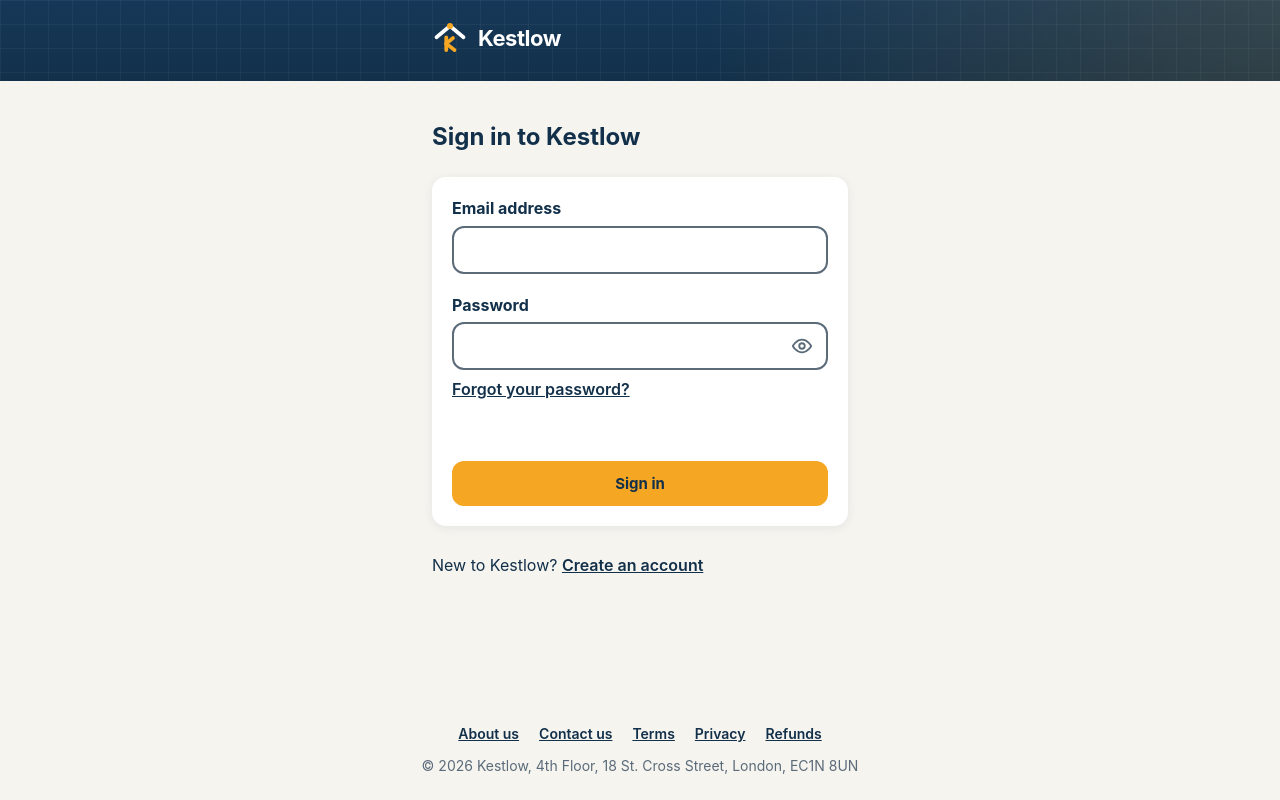
Test: AuthScreen › shows the API's message when sign-in fails
This screenshot has width=1280, height=800.
Type "dave@example.com" into the field labelled "Email address" at (640, 250), box [452,226,828,274]
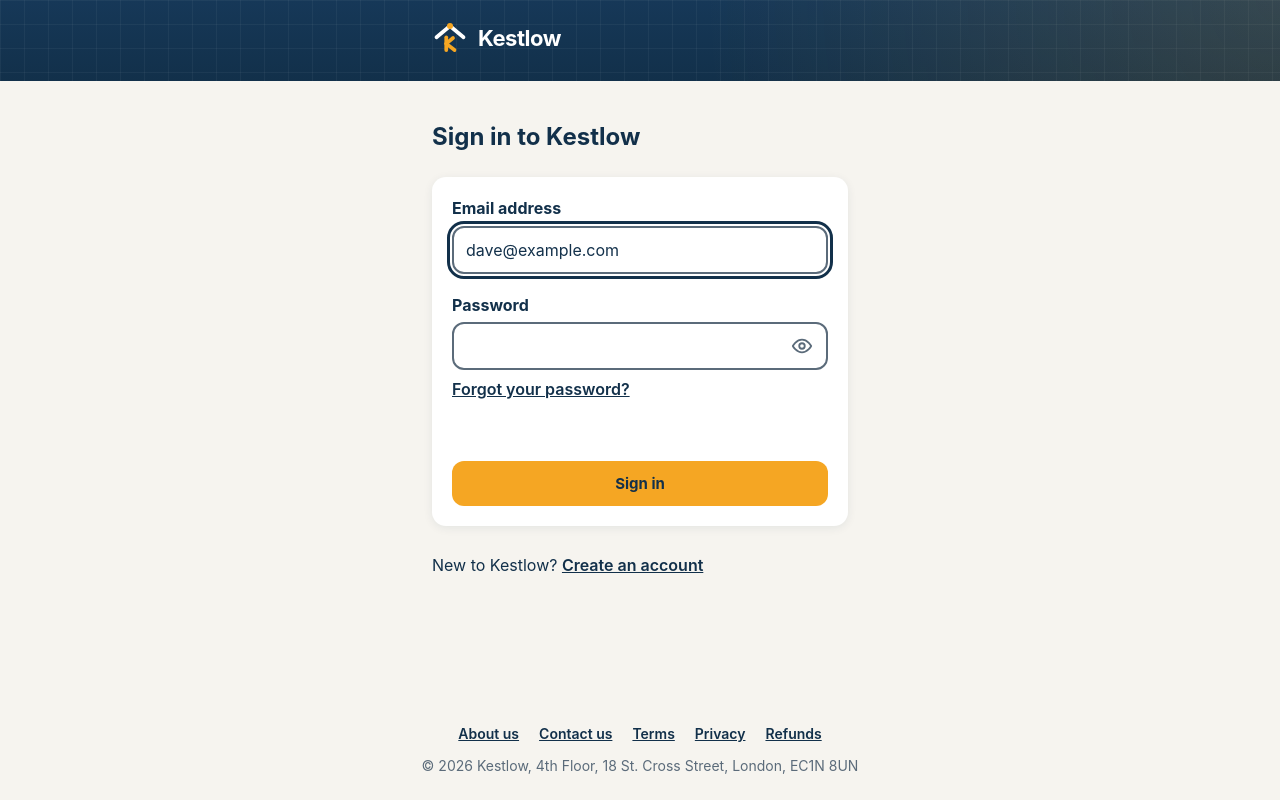
Type "wrong" into the password field labelled "Password" at (640, 346), box [452,322,828,370]
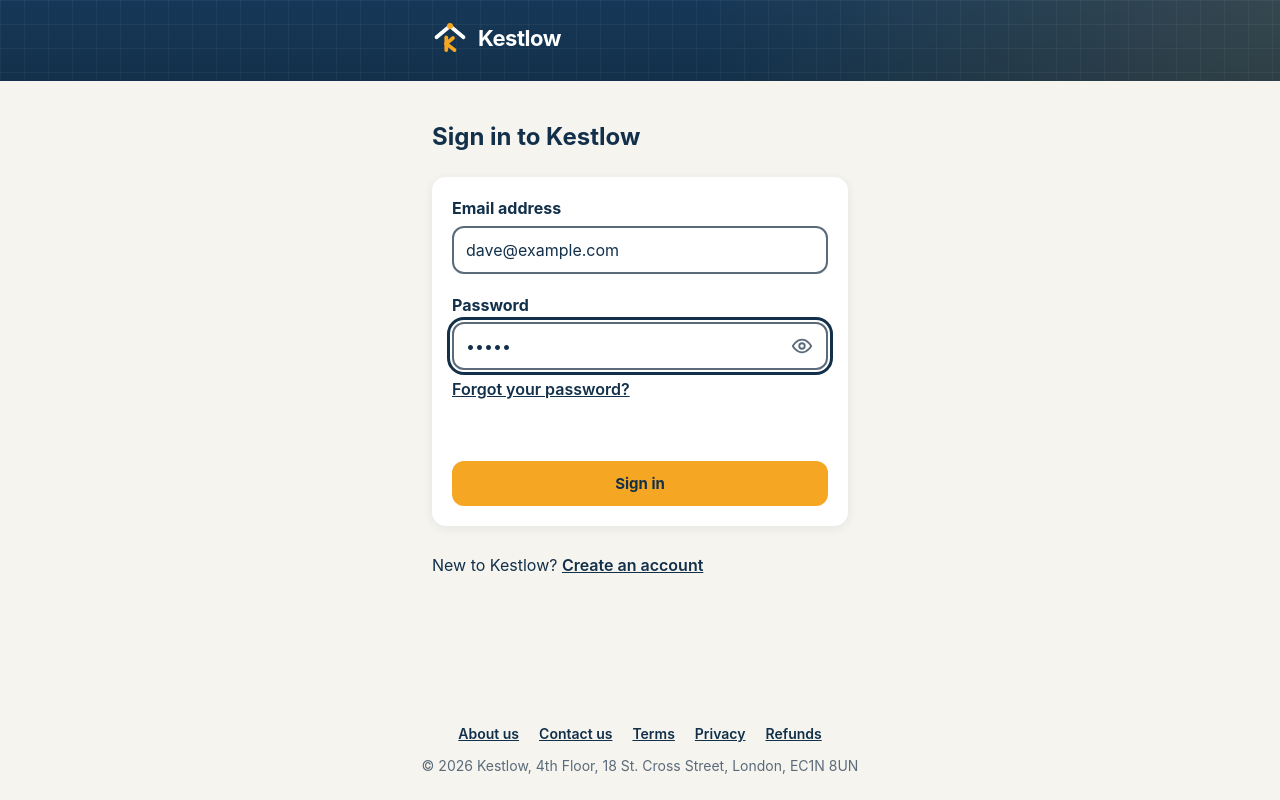
Click the button "Sign in" at (640, 483), box [452,461,828,506]
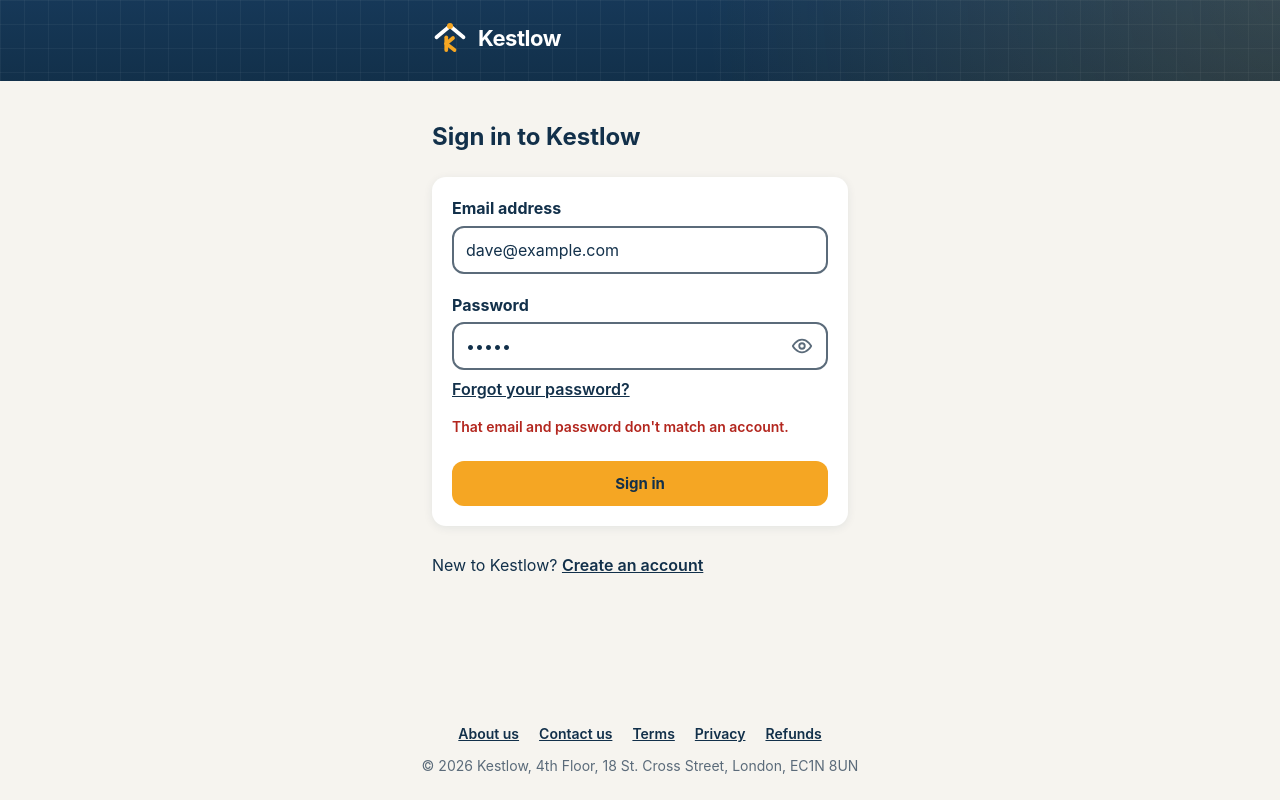
Expected: the message reads "That email and password don't match an account.", [452,418,789,435]
